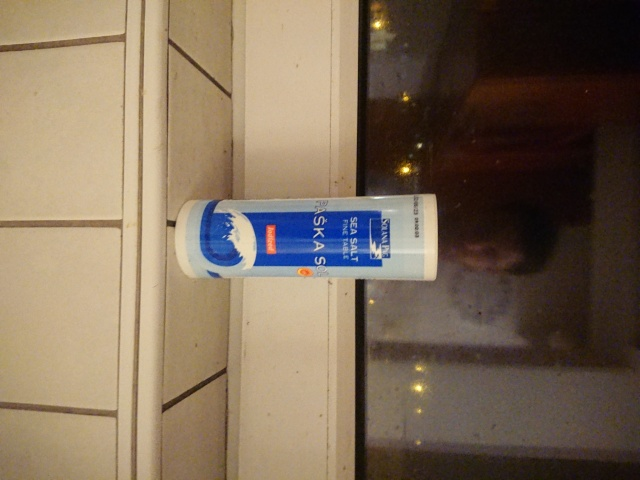Solana Pag Fine Sea Salt 250g: (170, 191, 442, 284)
